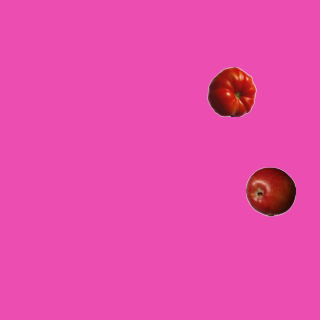Apple Braeburn: (245, 166, 295, 216)
Tomato 3: (206, 66, 256, 116)
